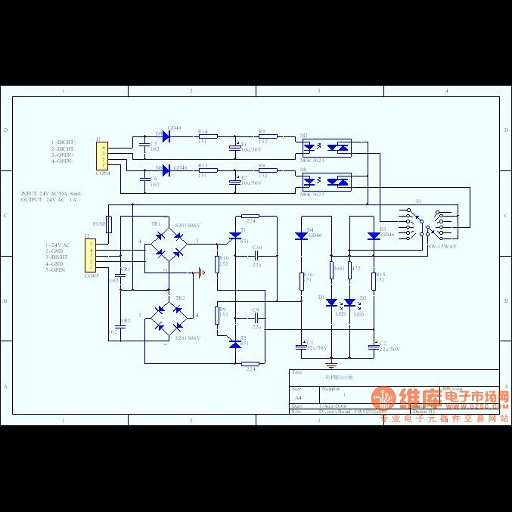capacitor: (113, 323, 129, 331), (113, 272, 130, 279), (252, 311, 261, 324), (137, 141, 151, 149), (252, 250, 262, 261), (138, 176, 152, 182)
firstdiode: (293, 230, 308, 244), (366, 231, 381, 244), (162, 129, 173, 145), (161, 163, 171, 179)
firstled: (325, 296, 344, 311), (345, 296, 362, 311), (304, 176, 323, 187), (303, 143, 322, 152)
firstresistance: (368, 271, 378, 293), (212, 305, 221, 326), (297, 271, 306, 292), (257, 133, 280, 141), (256, 167, 280, 174), (328, 260, 336, 281), (239, 212, 262, 219), (213, 255, 221, 274), (197, 134, 222, 140), (239, 361, 262, 367), (347, 260, 353, 281), (197, 168, 222, 173)
fuse: (105, 214, 115, 235)
gnd: (323, 362, 340, 370)
rectifierbridge: (150, 301, 188, 335), (151, 228, 188, 262)
secondpolarcapacitor: (365, 339, 380, 352), (226, 140, 242, 152), (293, 340, 307, 353), (227, 175, 241, 187)
